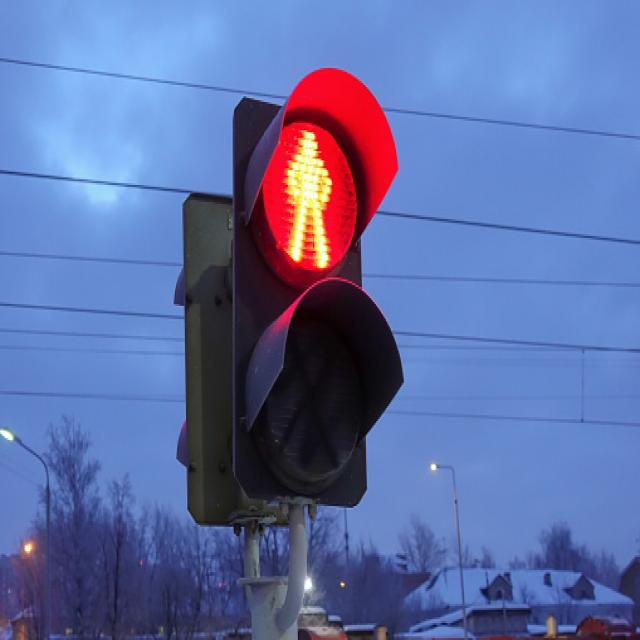Not go: (221, 55, 409, 483), (235, 73, 392, 300)
